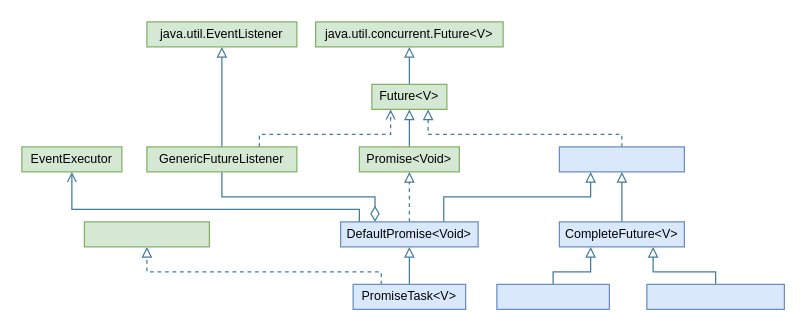
Image size: 806x331. Some labels were removed from this diagram. The box of each missing label's shape, as (x1, y1, x2, y2) in pixels:
AbstractFuture<V>: (558, 146, 684, 172)
FailedFuture<V>: (496, 283, 609, 309)
RunnableFuture<V>: (83, 221, 209, 247)
SucceededFuture<V>: (646, 283, 784, 309)
